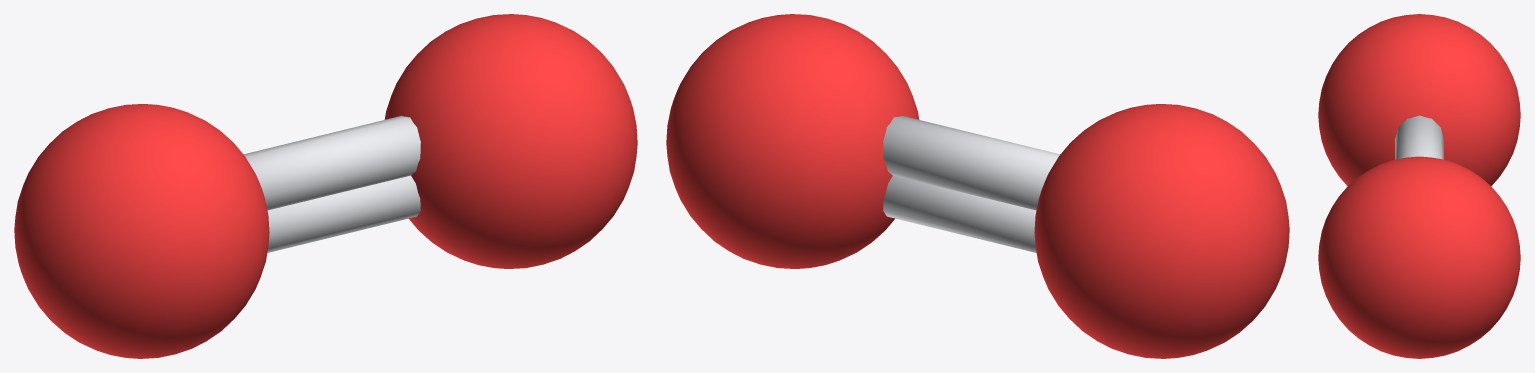
File: molecule-oxygen.glb
3 renders of one model, left to right at view 1: azimuth 30°, elevation 25°; view 2: azimuth 150°, elevation 25°; view 3: azimuth 270°, elevation 25°, orthographic. The views are drawn at different scales.
Parts seen in each view (by area): view 1: oxygen_1, oxygen_2, bonds; view 2: oxygen_1, oxygen_2, bonds; view 3: oxygen_2, oxygen_1, bonds.
Part boxes in pixels (box(x1,y1,x2,y2)): oxygen_1: box(14, 104, 269, 358); oxygen_2: box(384, 14, 637, 268); bonds: box(244, 116, 420, 252); oxygen_1: box(1034, 104, 1289, 358); oxygen_2: box(666, 14, 919, 268); bonds: box(883, 116, 1059, 252); oxygen_2: box(1318, 156, 1520, 358); oxygen_1: box(1318, 14, 1520, 186); bonds: box(1395, 115, 1443, 159).
Size of the model in its own units: 0.1183 by 0.0444 by 0.0444.
